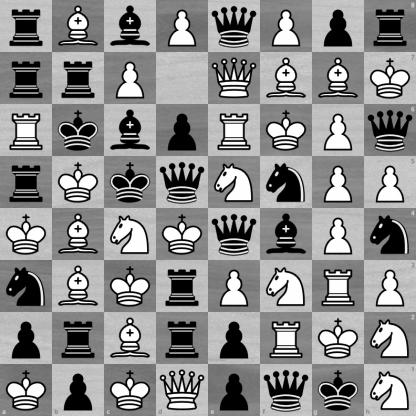B: (53, 1, 104, 52), (53, 209, 104, 260), (53, 261, 104, 312), (105, 313, 156, 364), (261, 53, 312, 104), (313, 53, 364, 104)
K: (0, 364, 52, 416), (104, 364, 156, 416), (364, 52, 416, 104), (1, 209, 52, 260), (53, 157, 104, 208), (105, 261, 156, 312), (157, 209, 208, 260), (261, 105, 312, 156), (313, 313, 364, 364)
N: (364, 312, 416, 364), (364, 364, 416, 416), (105, 209, 156, 260), (209, 157, 260, 208), (261, 261, 312, 312)
P: (364, 156, 416, 209), (364, 260, 416, 312), (105, 53, 156, 104), (157, 1, 208, 52), (209, 261, 260, 312), (261, 1, 312, 52), (313, 105, 364, 156), (313, 157, 364, 208), (313, 209, 364, 260)
Q: (156, 364, 209, 416), (209, 53, 260, 104)
R: (1, 105, 52, 156), (209, 105, 260, 156), (261, 313, 312, 364), (313, 261, 364, 312)
b: (105, 1, 156, 52), (105, 105, 156, 156), (261, 209, 312, 260)
board: (0, 0, 415, 415)
k: (312, 364, 364, 416), (53, 105, 104, 156), (105, 157, 156, 208)
n: (364, 209, 416, 260), (1, 261, 52, 312), (261, 157, 312, 208)
p: (52, 364, 104, 416), (209, 364, 260, 416), (1, 313, 52, 364), (157, 105, 208, 156), (209, 313, 260, 364), (313, 1, 364, 52)
q: (260, 364, 312, 416), (364, 104, 416, 156), (157, 157, 208, 208), (209, 1, 260, 52), (209, 209, 260, 260)
r: (364, 0, 416, 52), (1, 1, 52, 52), (1, 53, 52, 104), (1, 157, 52, 208), (53, 53, 104, 104), (53, 313, 104, 364), (157, 261, 208, 312), (157, 313, 208, 364)
